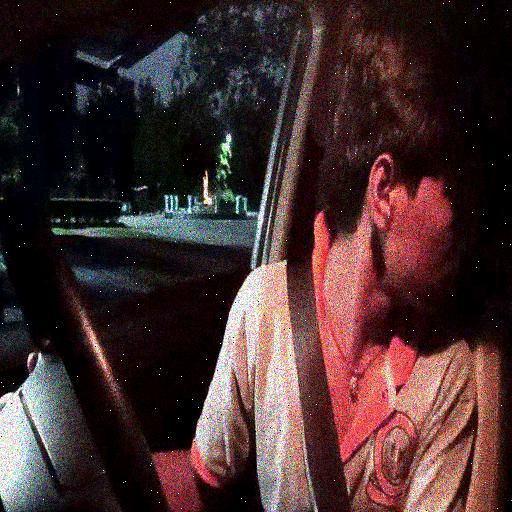Reaching_behind: (191, 17, 485, 512)
